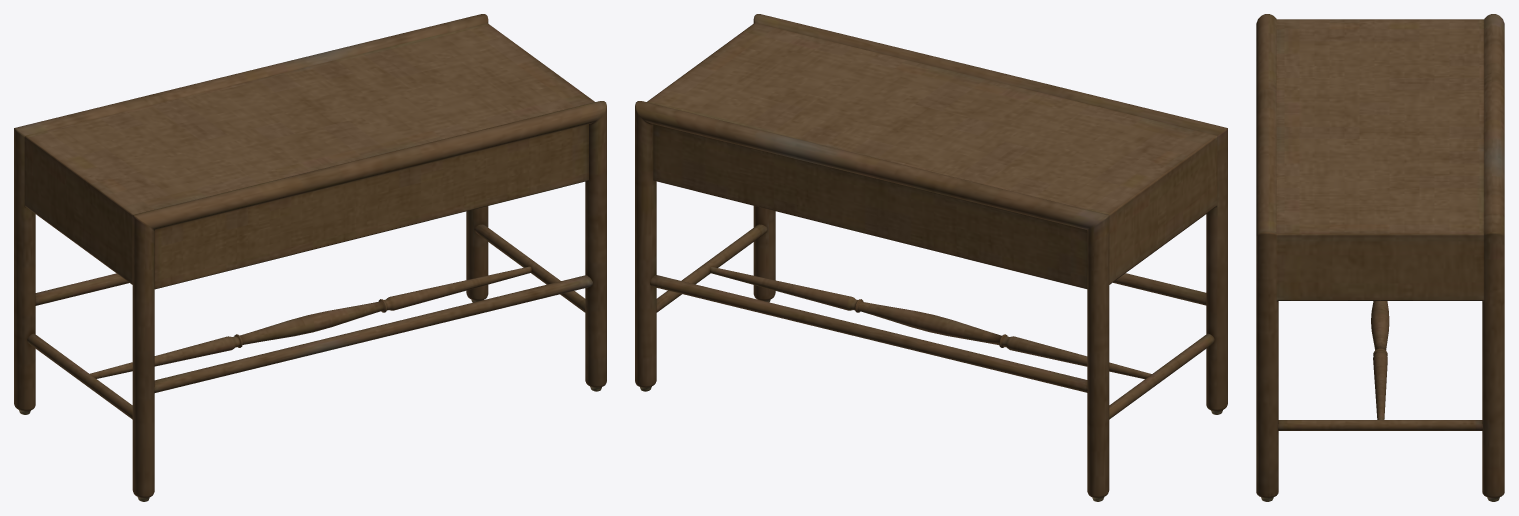
3 views of the same model, side by side, from view 1: azimuth 30°, elevation 25°; view 2: azimuth 150°, elevation 25°; view 3: azimuth 270°, elevation 25° (orthographic). The views are drawn at different scales.
Parts seen in each view (by area): view 1: small_wooden_table_01; view 2: small_wooden_table_01; view 3: small_wooden_table_01.
Part boxes in pixels (bbox=[...]): small_wooden_table_01: bbox=[14, 14, 606, 501]; small_wooden_table_01: bbox=[635, 14, 1227, 501]; small_wooden_table_01: bbox=[1256, 14, 1504, 501].
Size of the model in its own units: 0.9162 by 0.5331 by 0.44.
Materials: 1 (1 with a texture image).
